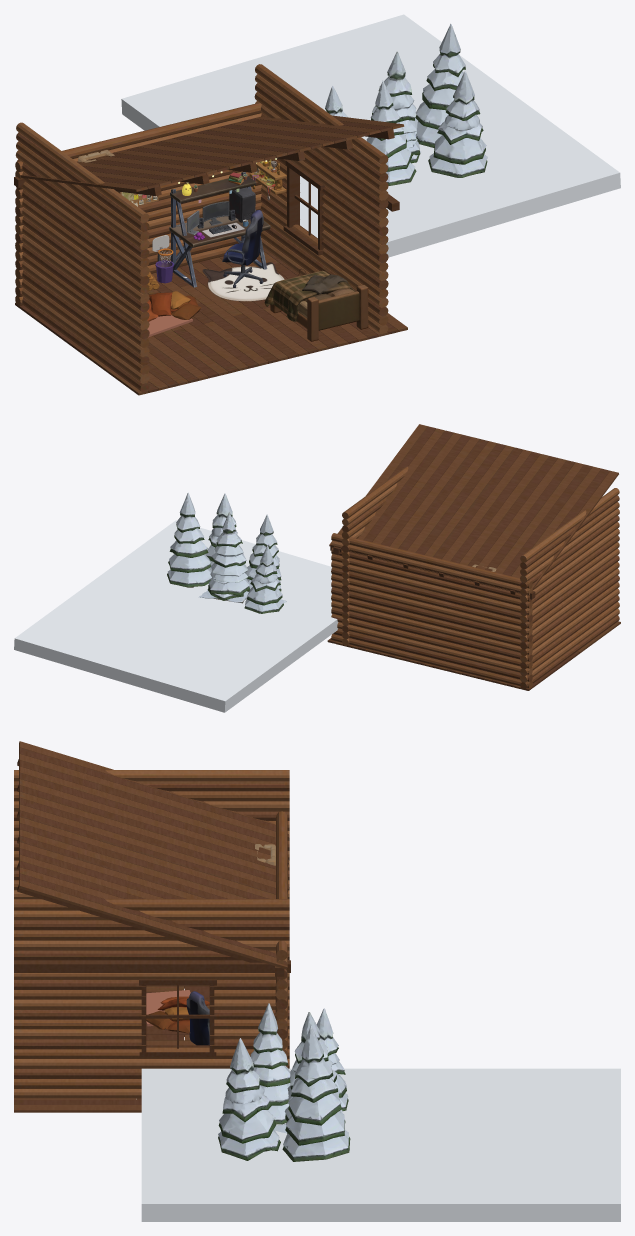
Rendered from adventurecabin_optimized.glb.
The picture shows the model from 3 angles, top to bottom: view 1: azimuth 30°, elevation 25°; view 2: azimuth 150°, elevation 25°; view 3: azimuth 270°, elevation 25°; orthographic projection. The views are drawn at different scales.
Visible parts, largest first — view 1: Exterior_Snow_Ground, Cabin_Wall_Left_Logs, Cabin_Wall_Right_Logs, Cabin_Floor_Planks.001, Cabin_Roof_Planks, Exterior_Snow_Trees_2, Cabin_Wall_Back_Logs, Cabin_Bed, Desk, Exterior_Snow_Trees_1, Rug, Cabin_Window_Frame (+7 smaller); view 2: Exterior_Snow_Ground, Cabin_Roof_Planks, Cabin_Wall_Back_Logs, Cabin_Wall_Left_Logs, Exterior_Snow_Trees_2, Exterior_Snow_Trees_1, Cabin_Wall_Right_Logs, Cabin_Floor_Planks.001; view 3: Exterior_Snow_Ground, Cabin_Wall_Right_Logs, Cabin_Roof_Planks, Exterior_Snow_Trees_2, Cabin_Wall_Left_Logs, Cabin_Roof_Rafters, Exterior_Snow_Trees_1, Cabin_Floor_Planks.001, Cabin_Window_Frame, Cabin_Wall_Back_Logs, Fireplace_Floor_Pillows, Chair.
Part boxes in pixels (x1=…): Exterior_Snow_Ground: x1=121, y1=14, x2=620, y2=257; Cabin_Wall_Left_Logs: x1=15, y1=122, x2=149, y2=392; Cabin_Wall_Right_Logs: x1=254, y1=64, x2=388, y2=334; Cabin_Floor_Planks.001: x1=15, y1=248, x2=407, y2=395; Cabin_Roof_Planks: x1=20, y1=115, x2=404, y2=191; Exterior_Snow_Trees_2: x1=372, y1=24, x2=487, y2=177; Cabin_Wall_Back_Logs: x1=15, y1=103, x2=261, y2=305; Cabin_Bed: x1=264, y1=270, x2=368, y2=341; Desk: x1=169, y1=172, x2=270, y2=287; Exterior_Snow_Trees_1: x1=325, y1=81, x2=419, y2=185; Rug: x1=202, y1=262, x2=284, y2=301; Cabin_Window_Frame: x1=283, y1=160, x2=324, y2=255; Exterior_Snow_Ground: x1=14, y1=520, x2=338, y2=712; Cabin_Roof_Planks: x1=329, y1=424, x2=618, y2=594; Cabin_Wall_Back_Logs: x1=331, y1=533, x2=532, y2=688; Cabin_Wall_Left_Logs: x1=520, y1=488, x2=619, y2=689; Exterior_Snow_Trees_2: x1=167, y1=492, x2=249, y2=603; Exterior_Snow_Trees_1: x1=207, y1=514, x2=286, y2=613; Cabin_Wall_Right_Logs: x1=341, y1=466, x2=408, y2=645; Cabin_Floor_Planks.001: x1=327, y1=621, x2=620, y2=690; Exterior_Snow_Ground: x1=141, y1=1068, x2=620, y2=1221; Cabin_Wall_Right_Logs: x1=14, y1=899, x2=289, y2=1098; Cabin_Roof_Planks: x1=19, y1=741, x2=287, y2=969; Exterior_Snow_Trees_2: x1=218, y1=1012, x2=350, y2=1161; Cabin_Wall_Left_Logs: x1=14, y1=770, x2=289, y2=898; Cabin_Roof_Rafters: x1=14, y1=759, x2=290, y2=976; Exterior_Snow_Trees_1: x1=250, y1=1003, x2=348, y2=1133; Cabin_Floor_Planks.001: x1=14, y1=985, x2=209, y2=1112; Cabin_Window_Frame: x1=139, y1=979, x2=216, y2=1056; Cabin_Wall_Back_Logs: x1=275, y1=811, x2=287, y2=1067; Fireplace_Floor_Pillows: x1=146, y1=996, x2=209, y2=1033; Chair: x1=186, y1=991, x2=209, y2=1045.
Bounding box in the file's own units: 13.04 × 4.69 × 11.4.
Materials: 40 (28 with a texture image).
